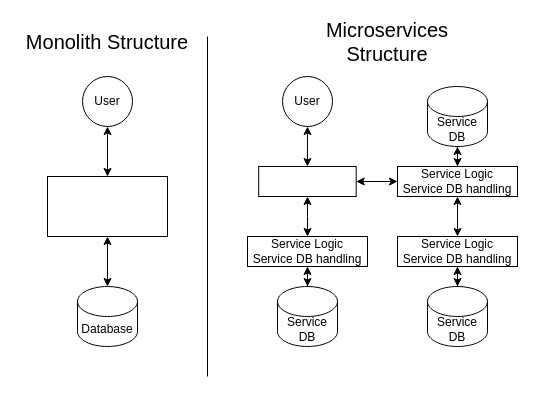
This 535x395 diagram has some shape labels left out. The shapes that lost their labels are listed below. From the top down, each one's centre as x and y in pixels, then its label:
pixel 307 181: User Interface
pixel 107 206: User Interface Application Logic Database Handling
